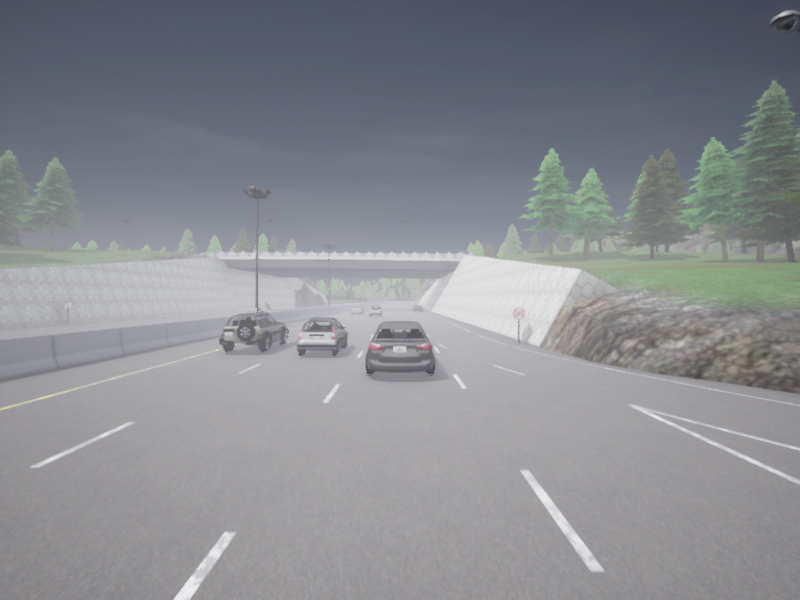vehicle: (365, 321, 434, 374), (219, 311, 288, 351), (297, 317, 347, 355), (370, 305, 382, 316), (352, 305, 364, 313), (412, 304, 422, 311)
